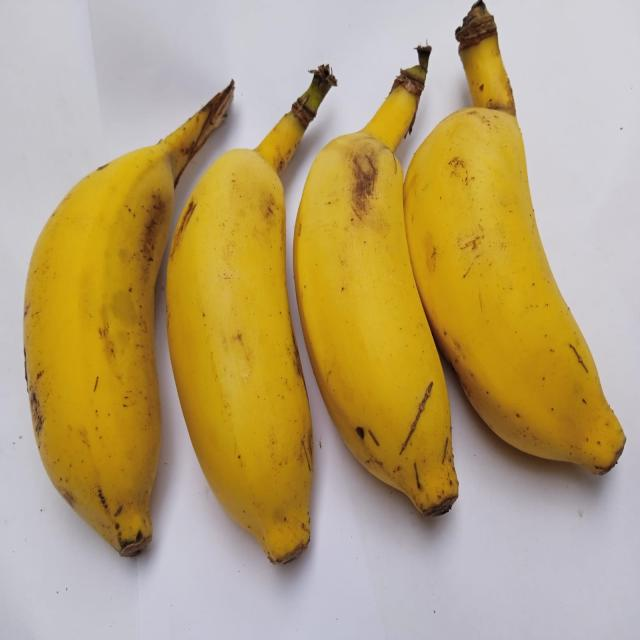banana: (404, 2, 625, 474), (24, 82, 233, 555), (167, 66, 335, 563), (294, 47, 457, 515)
